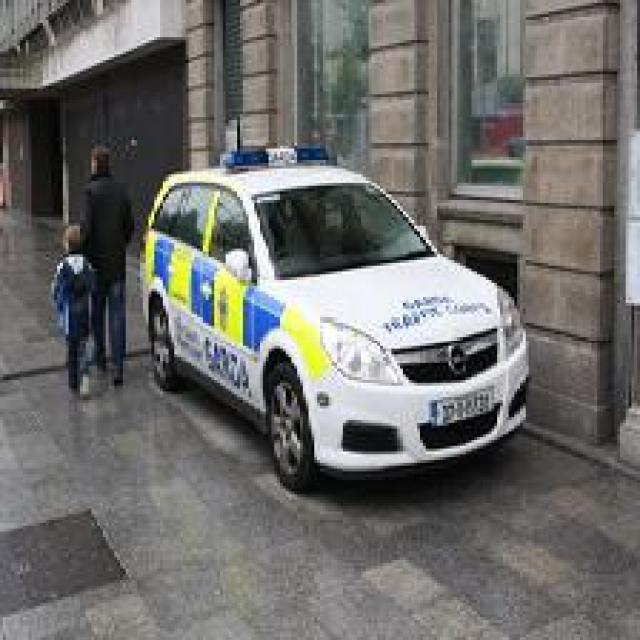fire_truck: (134, 133, 538, 505)
